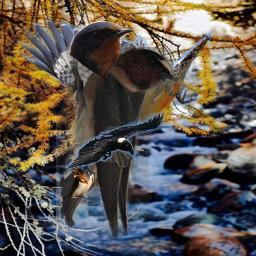Crow: (65, 111, 165, 169)
Swallow: (56, 47, 174, 241), (68, 20, 135, 78), (68, 165, 95, 198)
Woodpecker: (17, 18, 212, 163)
